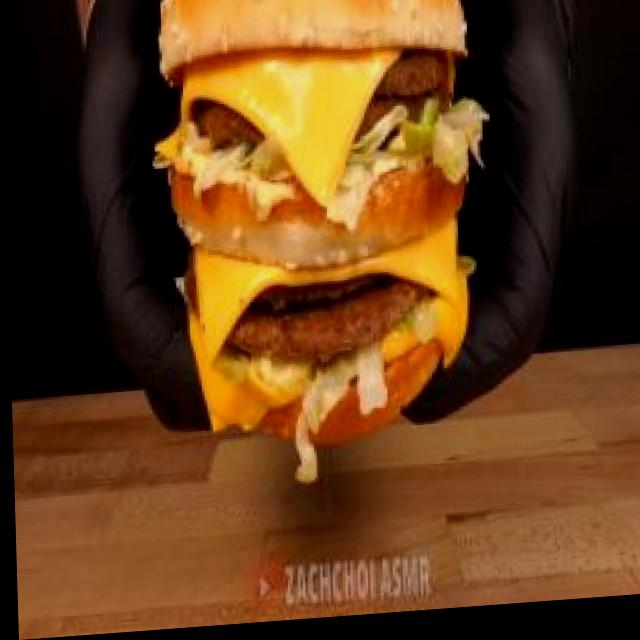burger: (148, 0, 489, 469)
